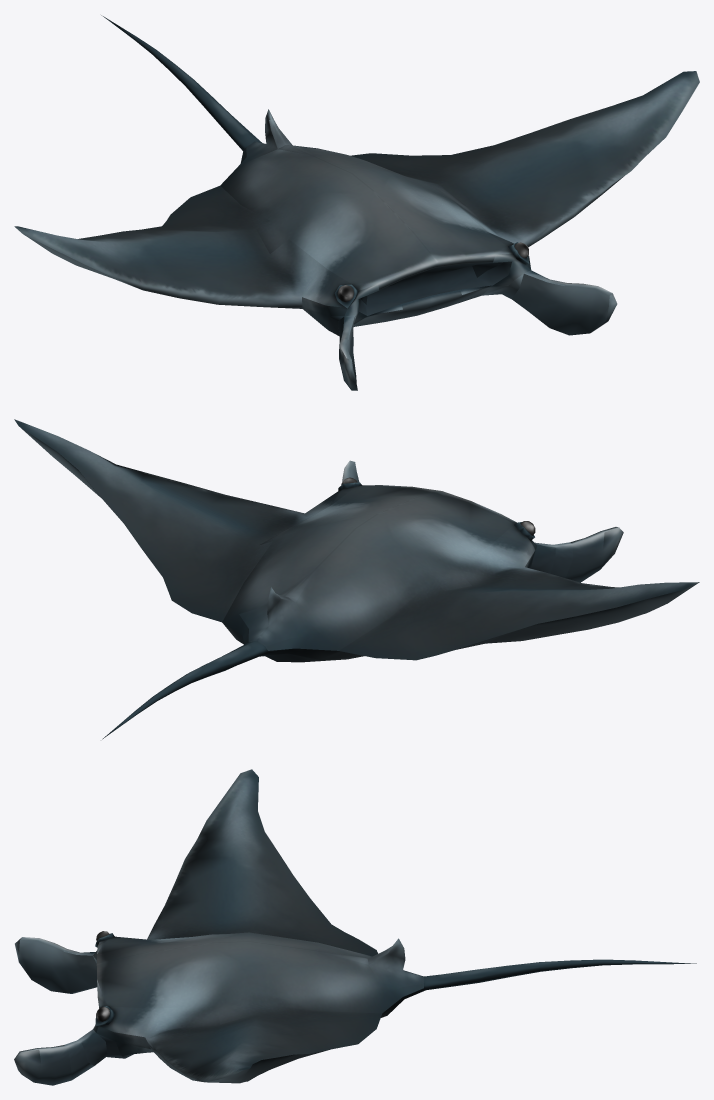
The model's file is Mistwing.fbx.
The picture shows the model from 3 angles, top to bottom: view 1: azimuth 30°, elevation 25°; view 2: azimuth 150°, elevation 25°; view 3: azimuth 270°, elevation 25°; orthographic projection. The views are drawn at different scales.
Visible parts, largest first — view 1: Top Wings, Top Body, Bottom Body, Bottom Wings; view 2: Top Wings, Top Body, Bottom Wings, Bottom Body; view 3: Top Wings, Top Body, Bottom Body, Bottom Wings.
Part boxes in pixels (bbox=[...]): Top Wings: bbox=[14, 71, 699, 329]; Top Body: bbox=[220, 119, 531, 316]; Bottom Body: bbox=[168, 63, 612, 382]; Bottom Wings: bbox=[24, 15, 617, 390]; Top Wings: bbox=[14, 419, 699, 660]; Top Body: bbox=[222, 477, 537, 650]; Bottom Wings: bbox=[19, 426, 698, 739]; Bottom Body: bbox=[171, 460, 618, 690]; Top Wings: bbox=[93, 769, 423, 1082]; Top Body: bbox=[96, 931, 423, 1049]; Bottom Body: bbox=[19, 933, 571, 1085]; Bottom Wings: bbox=[14, 933, 696, 1083].
Size of the model in its own units: 1946 by 375 by 1909.
2 materials, 2 textured.
